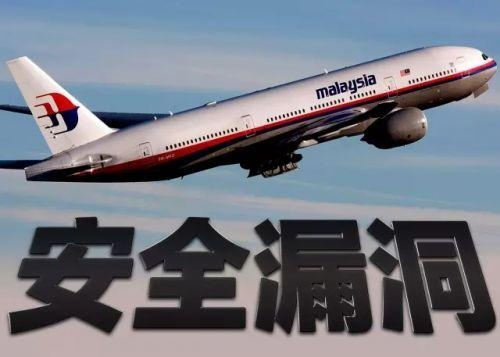airplane: (1, 31, 498, 192)
